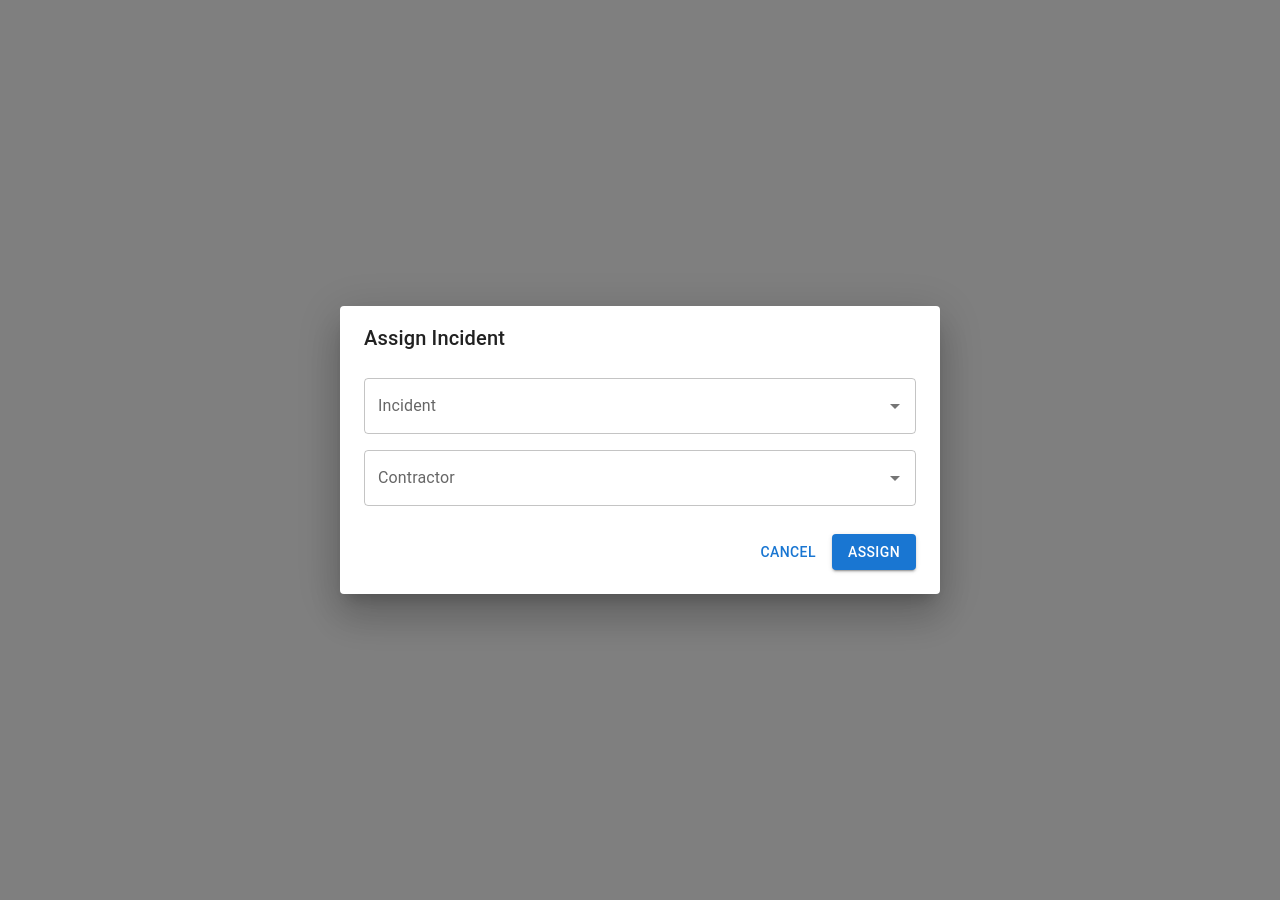
Test case: AssignIncidentModal contractor eligibility › shows a contractor specialised in the exact issue type
Step 1. Click the dropdown labelled "Incident" → (625, 406), box [373,387,877,425]
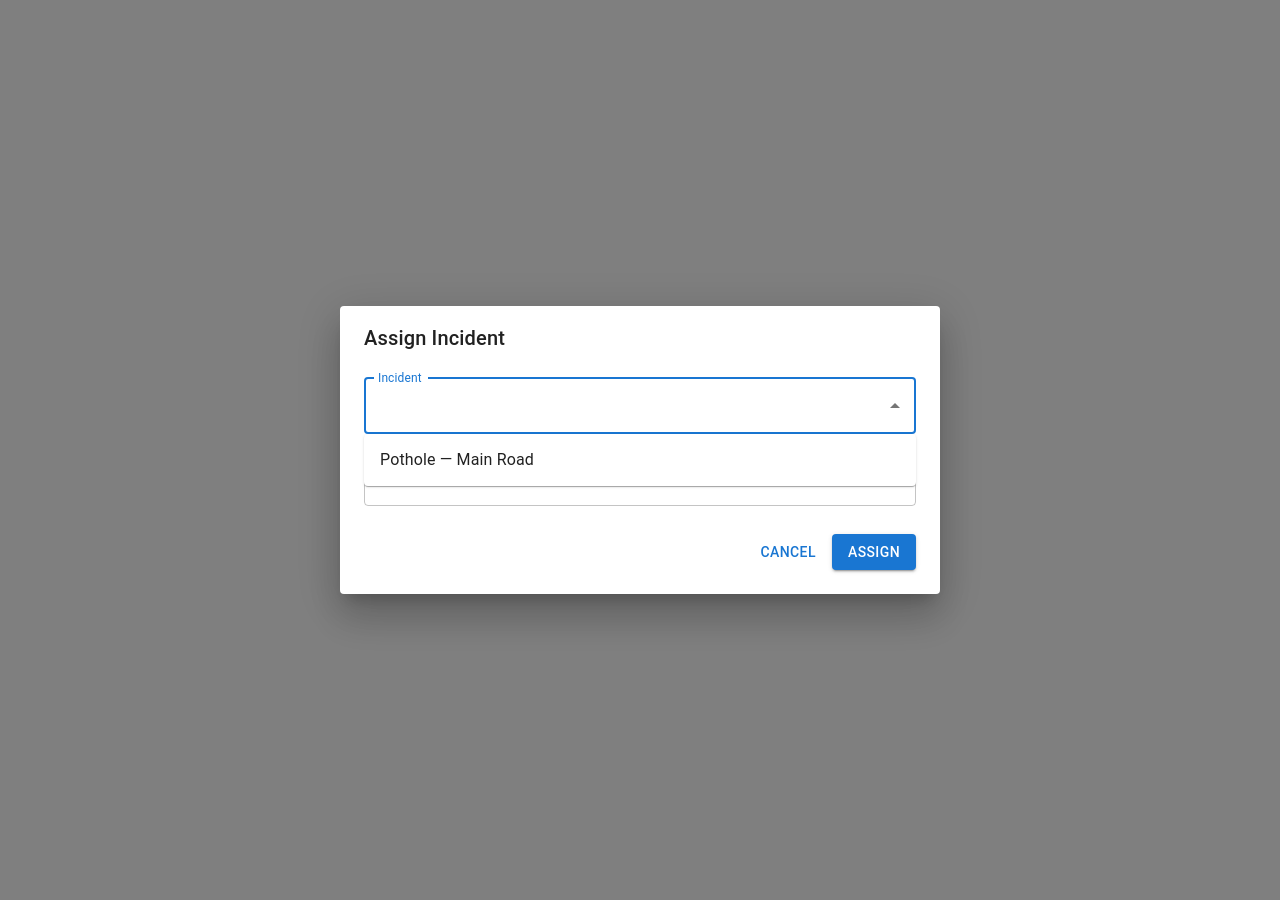
Step 2. Click the option "Pothole — Main Road" → (457, 460), box [380,450,534,469]
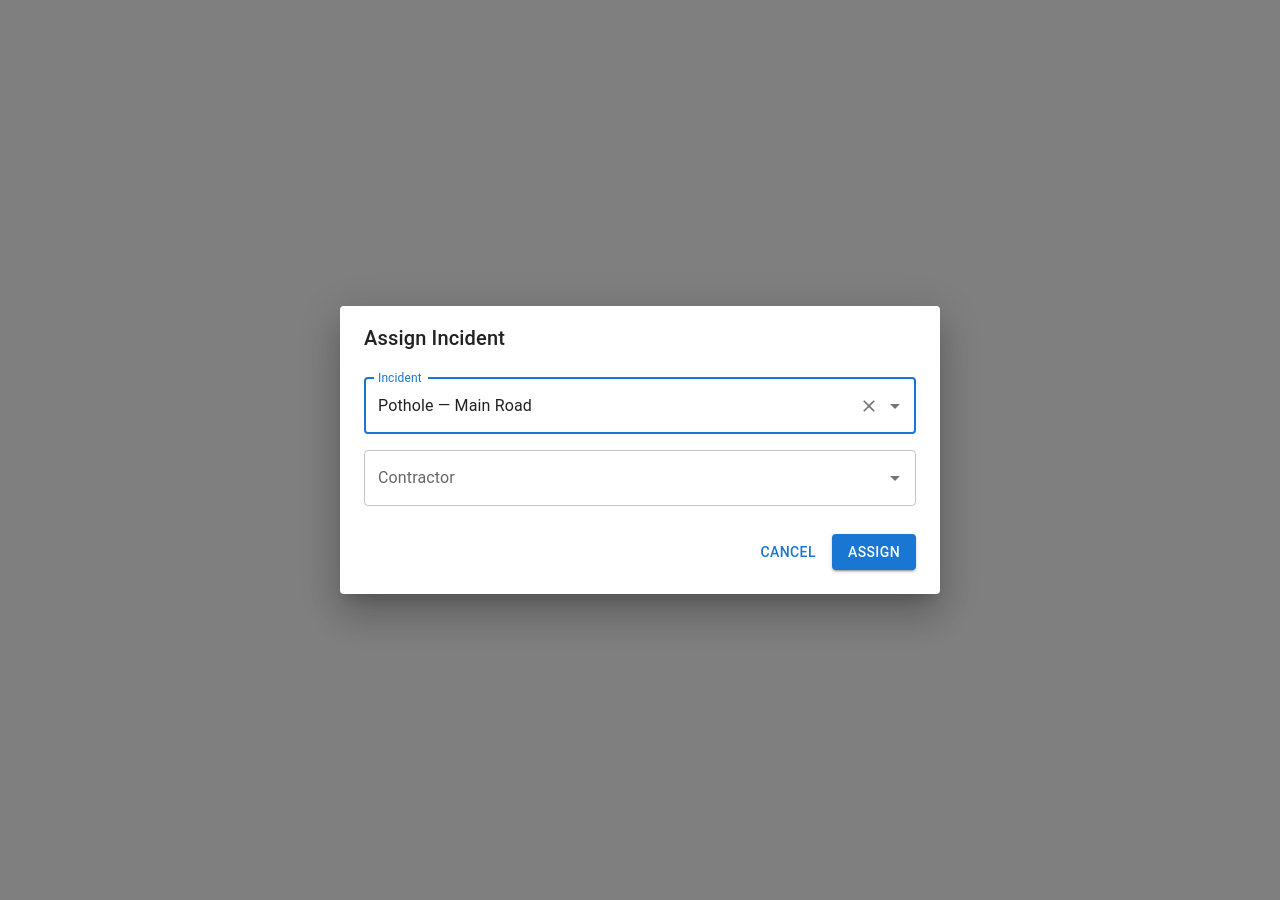
Step 3. Click the dropdown labelled "Contractor" → (625, 478), box [373,459,877,497]
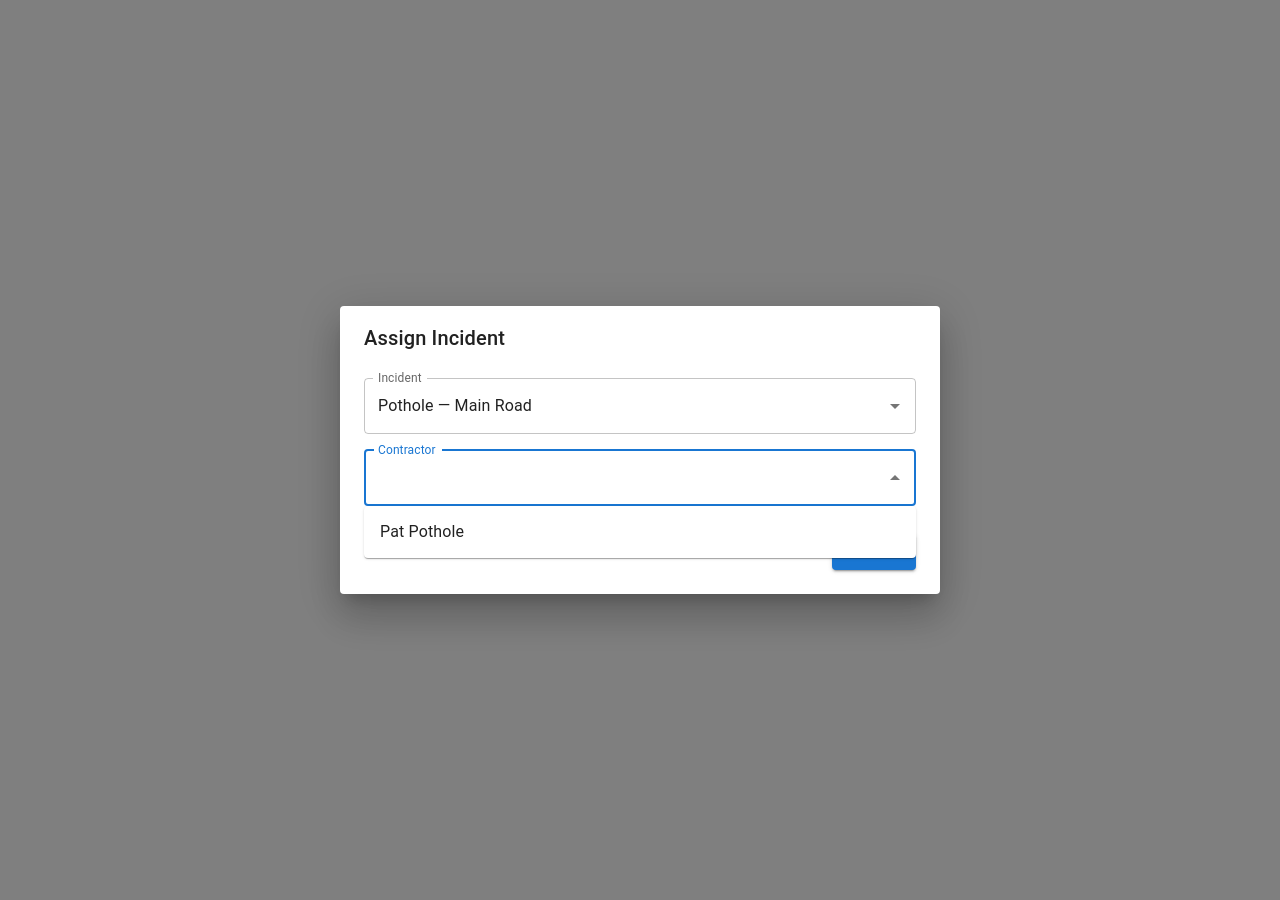
Expected: the option "Pat Pothole" is shown, [380,522,464,541]
